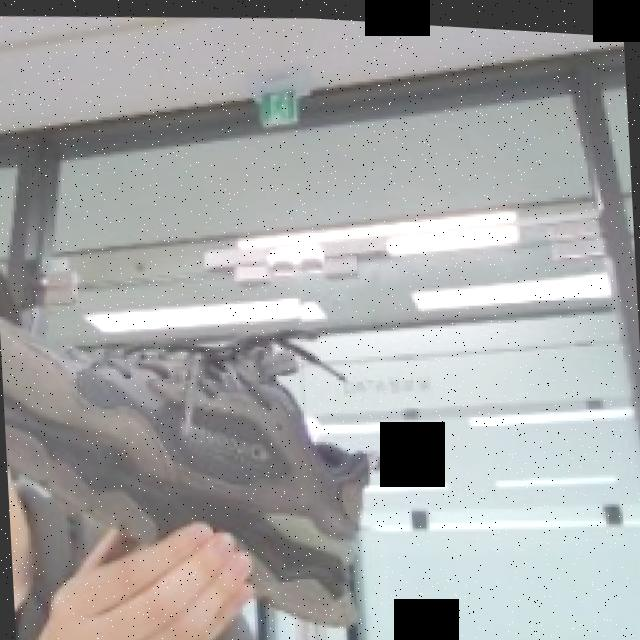shoe: (0, 266, 403, 640)
